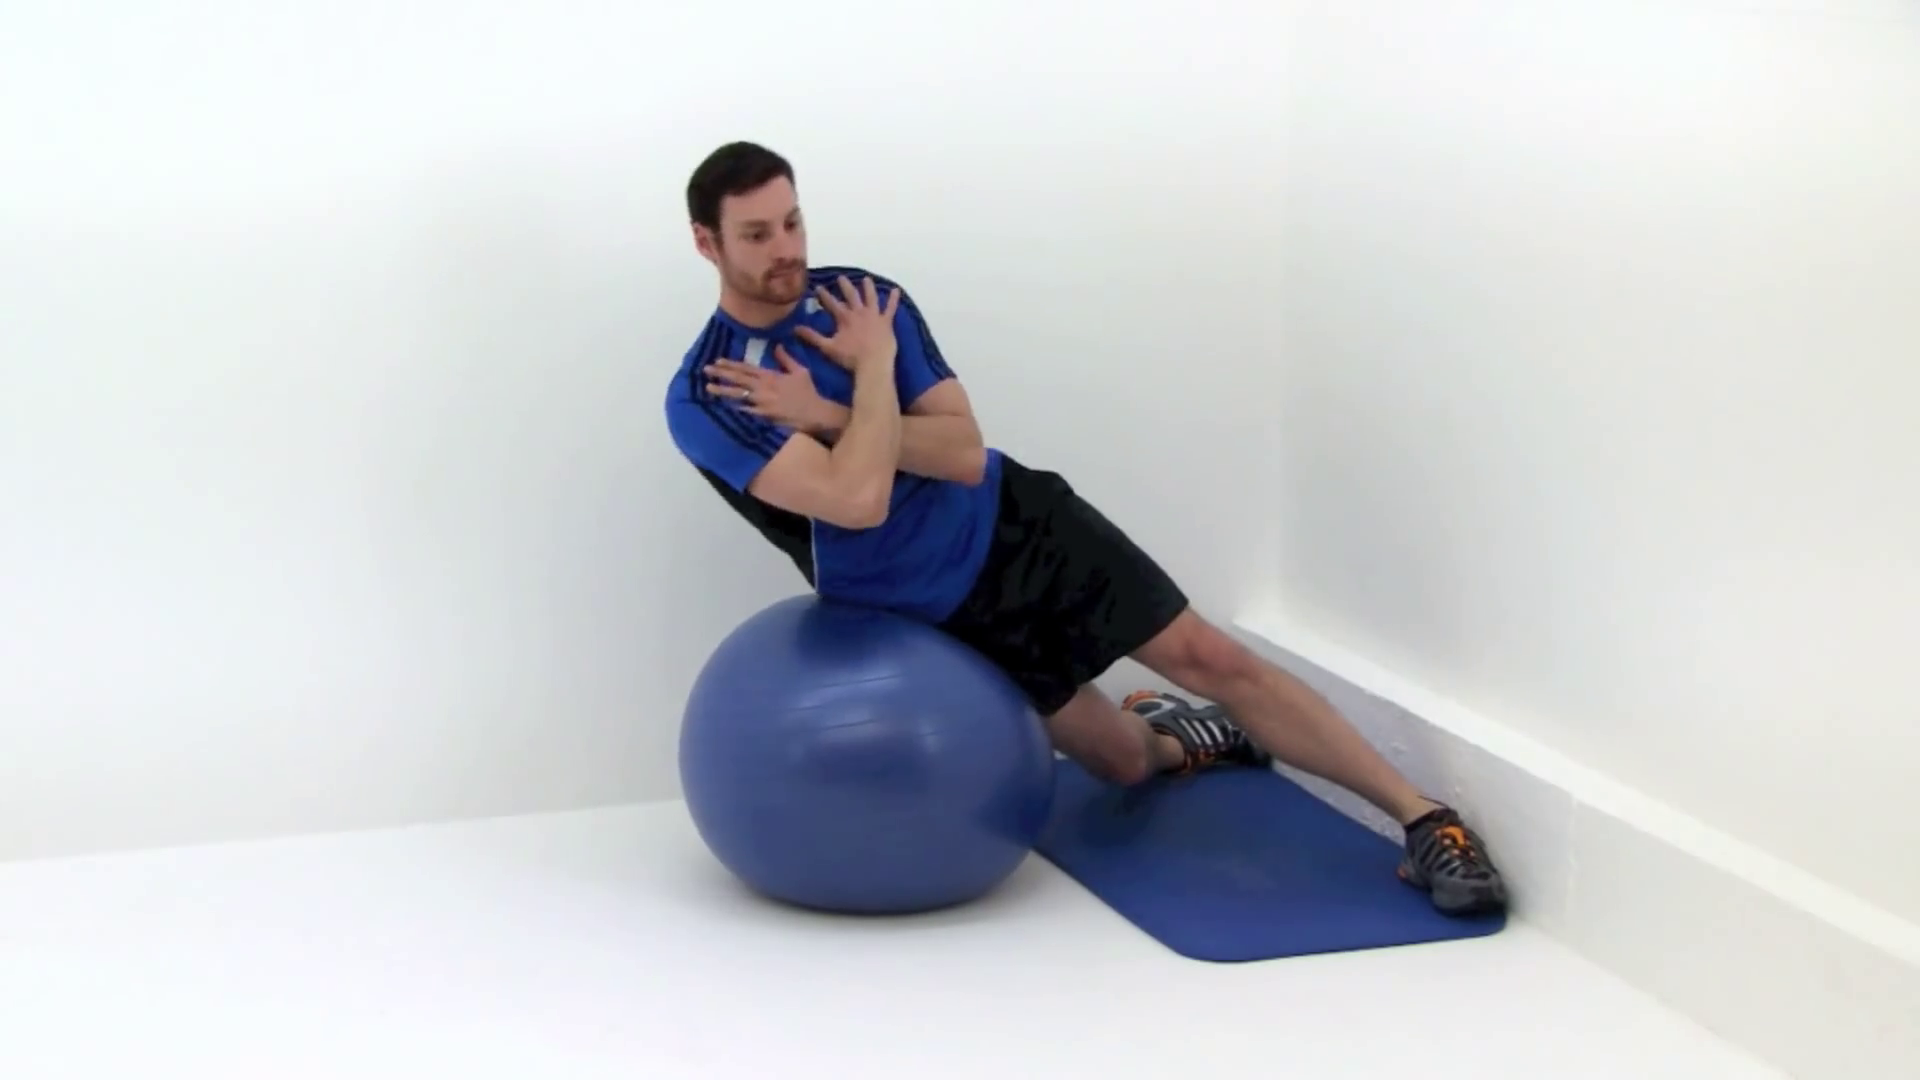yogaball: (659, 584, 1065, 930)
